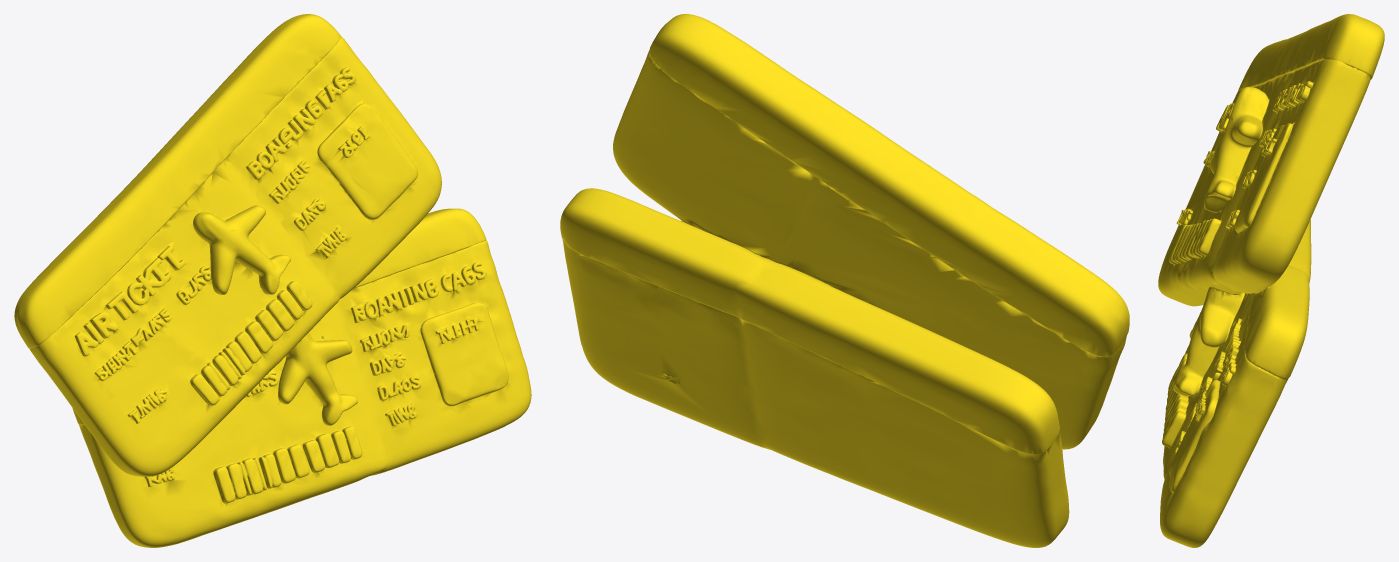
The model's file is Airfare.glb.
3 views of the same model, side by side, from view 1: azimuth 30°, elevation 25°; view 2: azimuth 150°, elevation 25°; view 3: azimuth 270°, elevation 25° (orthographic). The views are drawn at different scales.
Visible parts, largest first — view 1: 機票; view 2: 機票; view 3: 機票.
Boxes of the visible parts, x1=… form: 機票: x1=14, y1=14, x2=531, y2=547; 機票: x1=560, y1=14, x2=1129, y2=547; 機票: x1=1158, y1=14, x2=1384, y2=547.
Size of the model in its own units: 0.0489 by 0.0425 by 0.0172.
